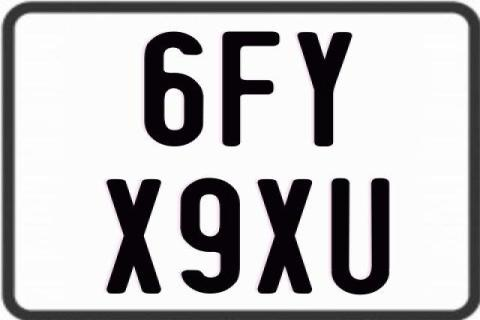0: (180, 176, 245, 293), (142, 29, 206, 145)
F: (220, 29, 281, 149)
U: (329, 178, 389, 296)
X: (104, 178, 164, 296), (256, 177, 317, 293)
Y: (294, 32, 354, 147)
